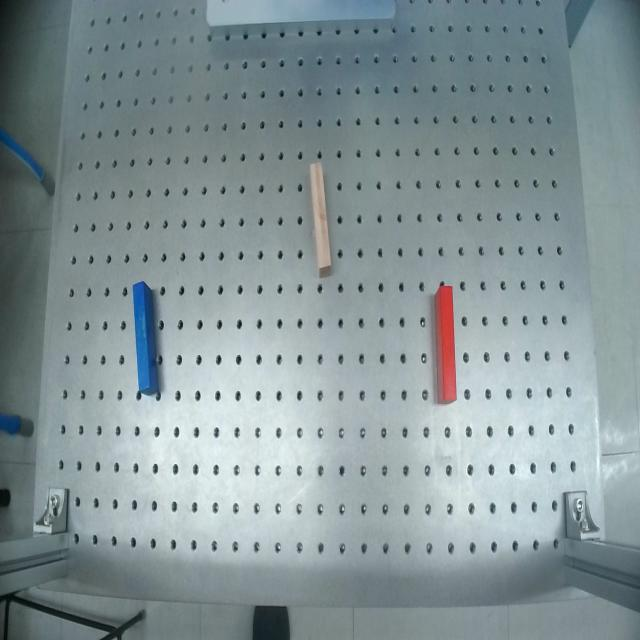blue: (132, 280, 158, 398)
red: (433, 287, 457, 405)
wood: (308, 162, 332, 280)
